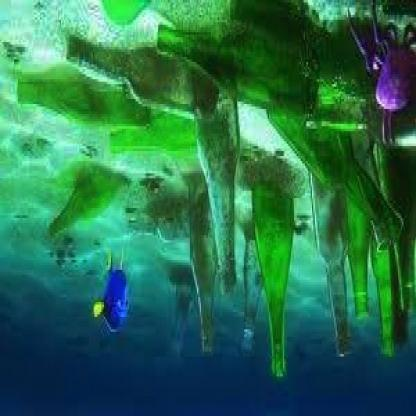gbottle: (156, 20, 318, 119), (66, 35, 216, 116), (193, 52, 240, 297), (252, 178, 297, 379), (17, 72, 150, 126), (48, 166, 129, 240)
